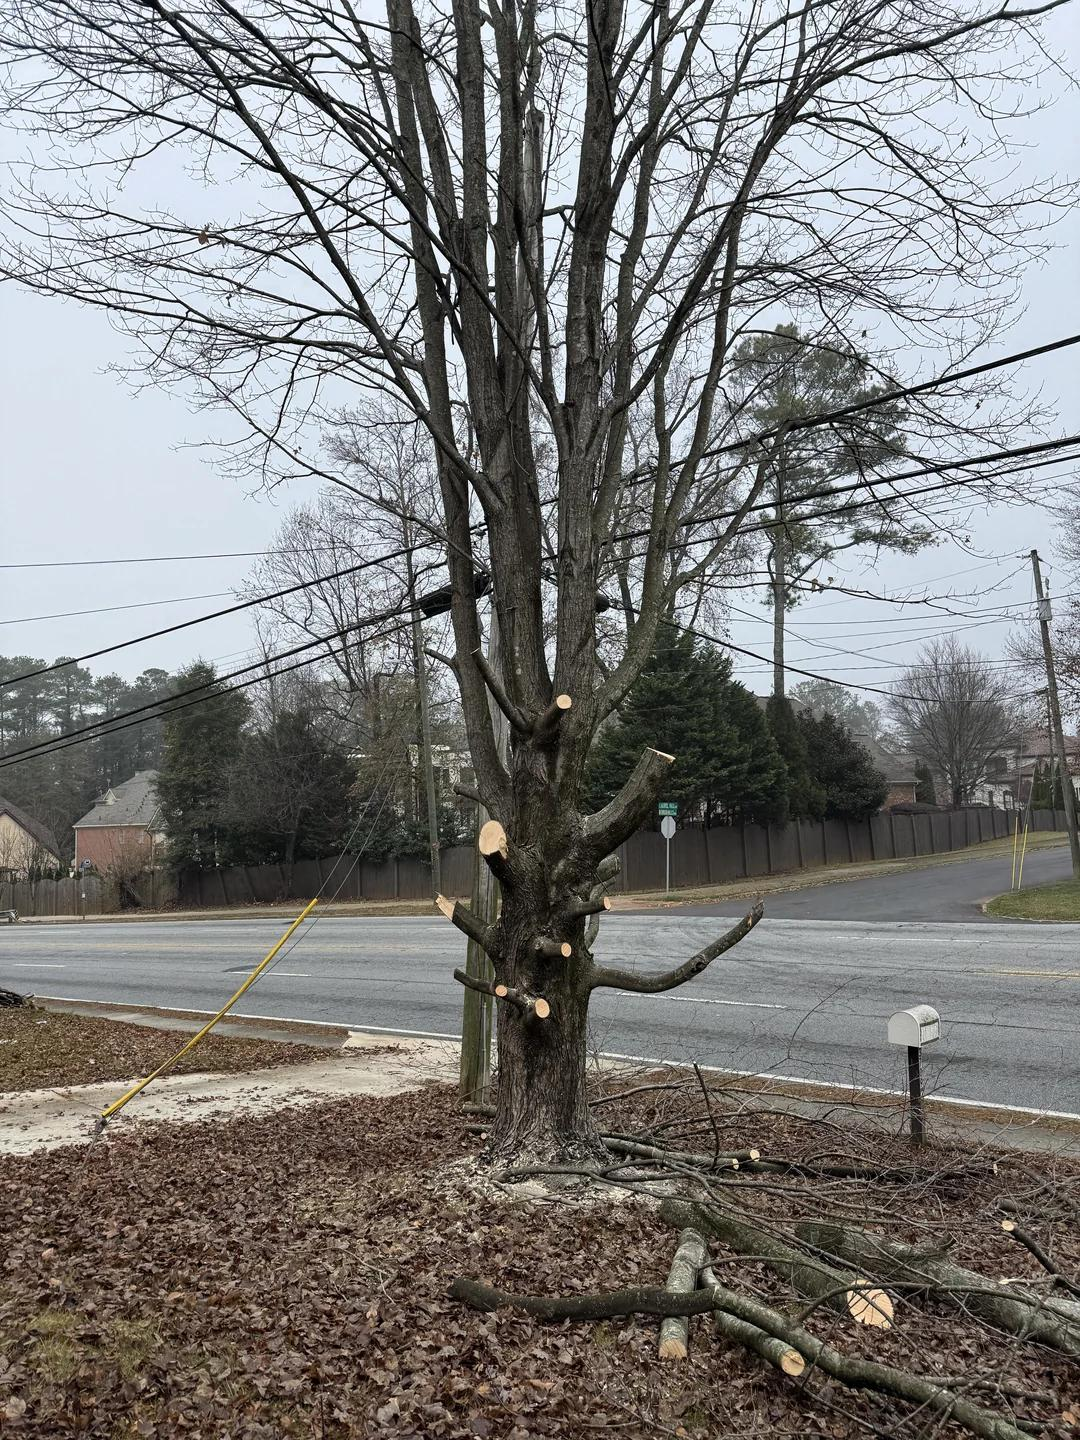mechanical damage: (478, 821, 506, 856), (436, 895, 453, 918), (534, 998, 547, 1017), (496, 985, 507, 997)
